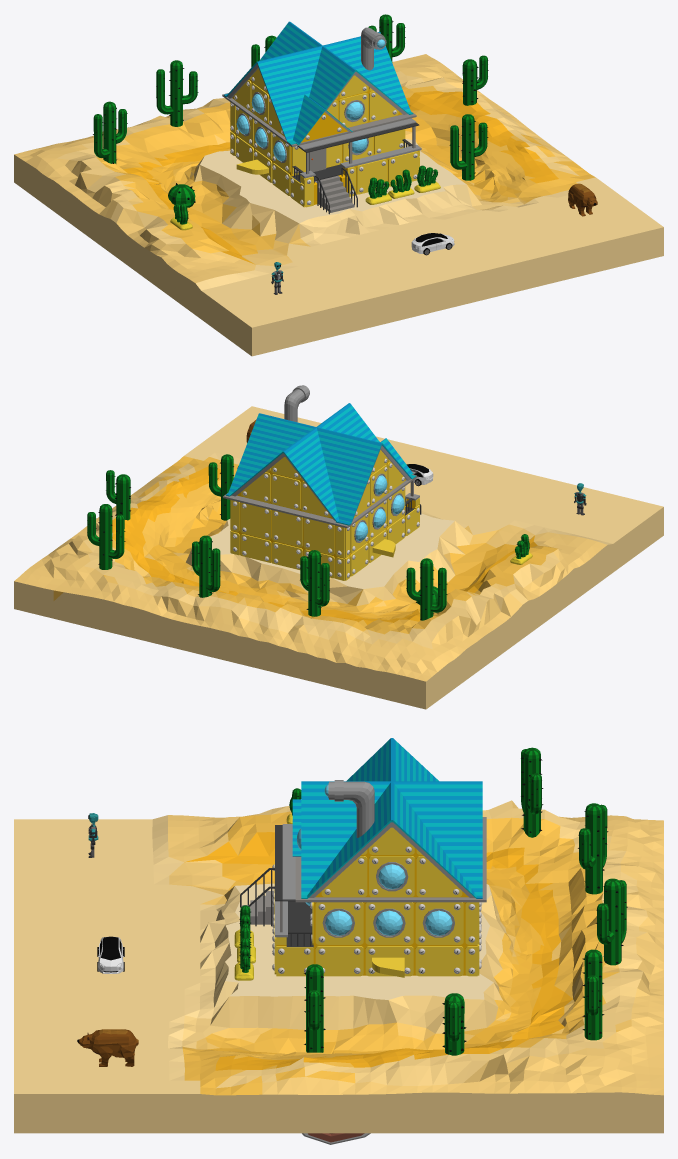
3 views of the same model, one above another, from view 1: azimuth 30°, elevation 25°; view 2: azimuth 150°, elevation 25°; view 3: azimuth 270°, elevation 25° (orthographic). The views are drawn at different scales.
Parts seen in each view (by area): view 1: Cube.001, Cube.1366, Cylinder.044, Cylinder.037, Cylinder.045, Cylinder.038, Cylinder.042, VEHICLES_TESLA, ANIMAL_OSO, Cylinder.039, Cylinder.041, Cylinder.040; view 2: Cube.001, Cube.1366, Cylinder.042, Cylinder.045, Cylinder.044, Cylinder.043, Cylinder.037, Cylinder.038; view 3: Cube.001, Cube.1366, Cylinder.044, Cylinder.043, Cylinder.045, Cylinder.042, Cylinder.037, ANIMAL_OSO, Cylinder.038, VEHICLES_TESLA, Cylinder.041.
Boxes of the visible parts, <box> form: Cube.001: <box>14,54,663,356</box>; Cube.1366: <box>222,21,421,214</box>; Cylinder.044: <box>156,60,198,126</box>; Cylinder.037: <box>449,114,488,180</box>; Cylinder.045: <box>93,101,127,163</box>; Cylinder.038: <box>462,55,488,105</box>; Cylinder.042: <box>368,14,405,62</box>; VEHICLES_TESLA: <box>411,233,454,255</box>; ANIMAL_OSO: <box>568,183,597,216</box>; Cylinder.039: <box>365,177,391,204</box>; Cylinder.041: <box>414,165,440,192</box>; Cylinder.040: <box>388,169,414,198</box>; Cube.001: <box>14,406,663,709</box>; Cube.1366: <box>223,385,421,580</box>; Cylinder.042: <box>87,504,125,569</box>; Cylinder.045: <box>406,558,447,620</box>; Cylinder.044: <box>300,550,329,616</box>; Cylinder.043: <box>191,535,220,597</box>; Cylinder.037: <box>208,454,238,520</box>; Cylinder.038: <box>106,470,130,520</box>; Cube.001: <box>14,800,663,1133</box>; Cube.1366: <box>240,738,486,977</box>; Cylinder.044: <box>578,803,608,894</box>; Cylinder.043: <box>595,878,627,965</box>; Cylinder.045: <box>521,747,543,837</box>; Cylinder.042: <box>582,949,604,1040</box>; Cylinder.037: <box>304,964,325,1052</box>; ANIMAL_OSO: <box>77,1029,138,1066</box>; Cylinder.038: <box>442,993,466,1055</box>; VEHICLES_TESLA: <box>97,936,124,973</box>; Cylinder.041: <box>234,938,253,980</box>.
Size of the model in its own units: 4002 by 2430 by 4001.
Materials: 36 (2 with a texture image).
